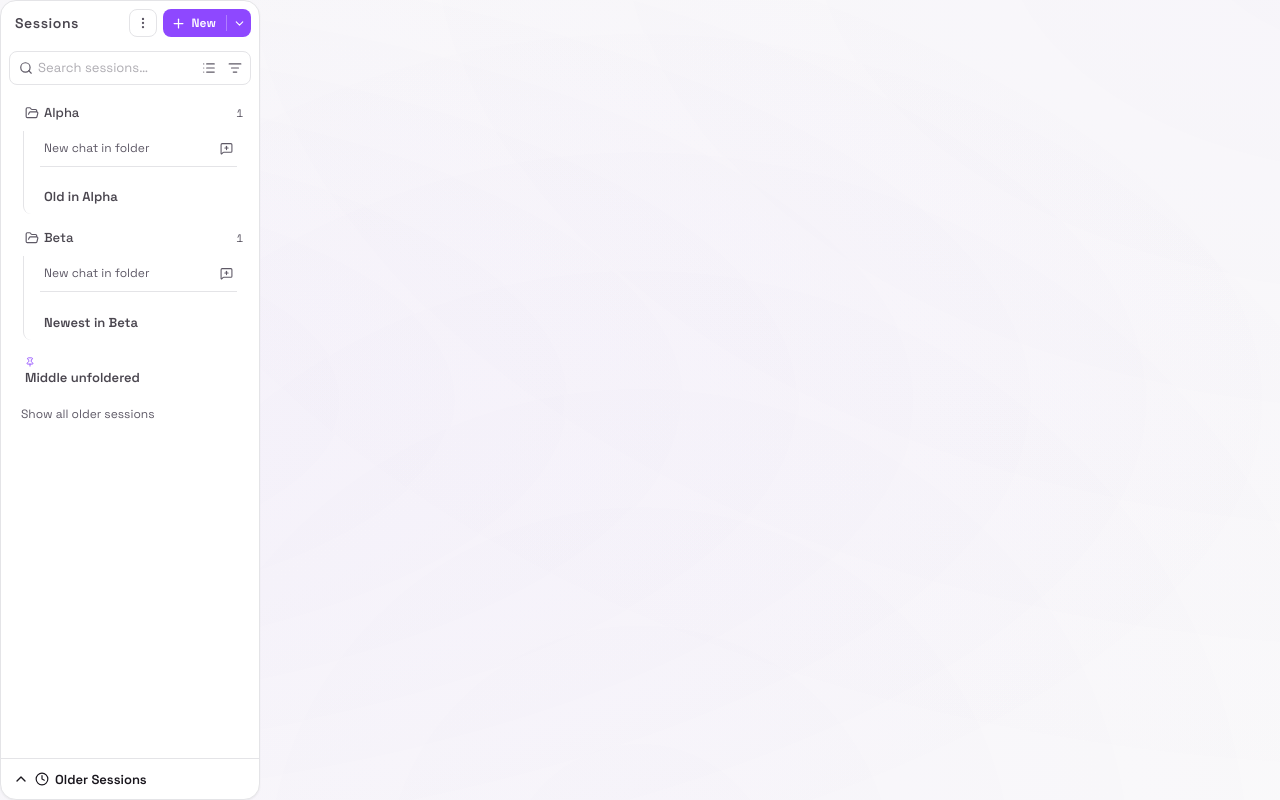
Test: chat sidebar — flat view (explode chats out of folders) › toggling back off restores the folder tree
Click the button with test id "flat-view-toggle".
click(209, 68)  # box x1=197 y1=56 x2=221 y2=80
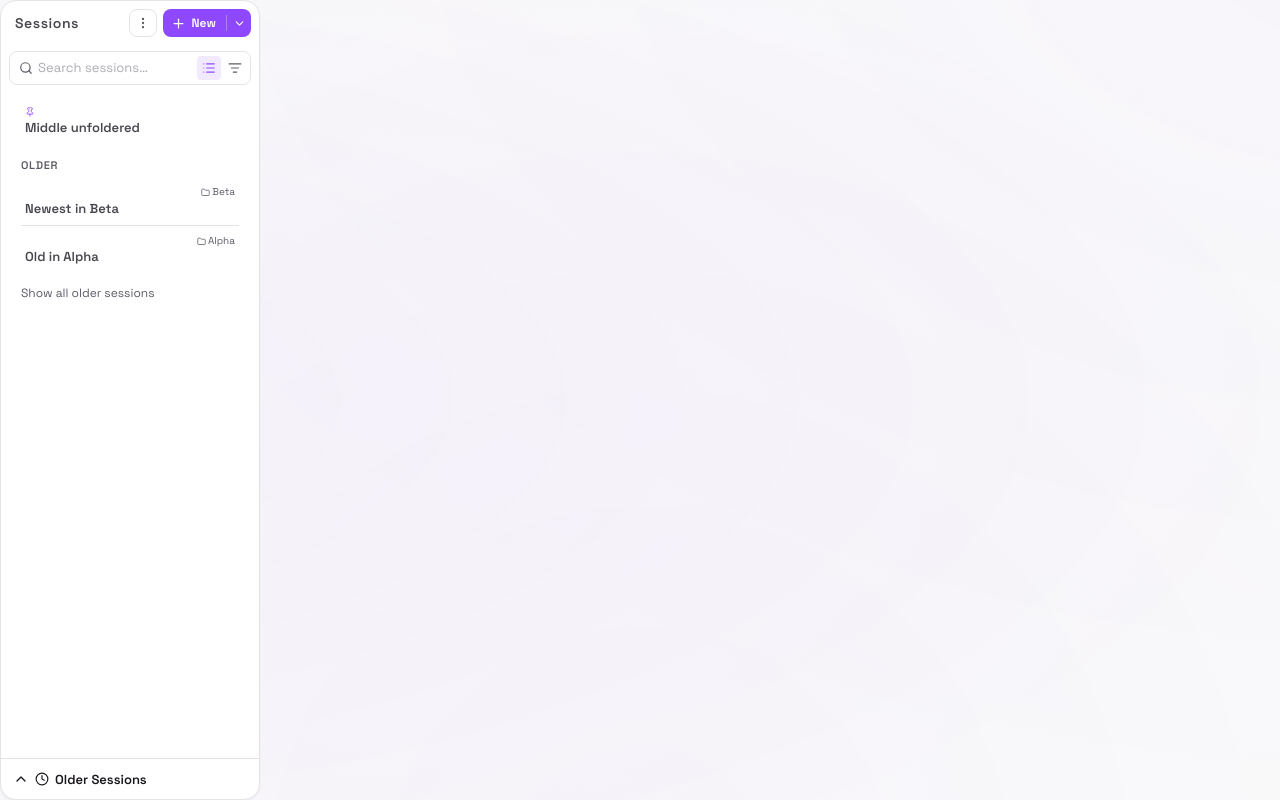
Check: the element with test id "flat-view-lane" is shown, box x1=13 y1=107 x2=247 y2=309
Click the button with test id "flat-view-toggle".
click(209, 68)  # box x1=197 y1=56 x2=221 y2=80
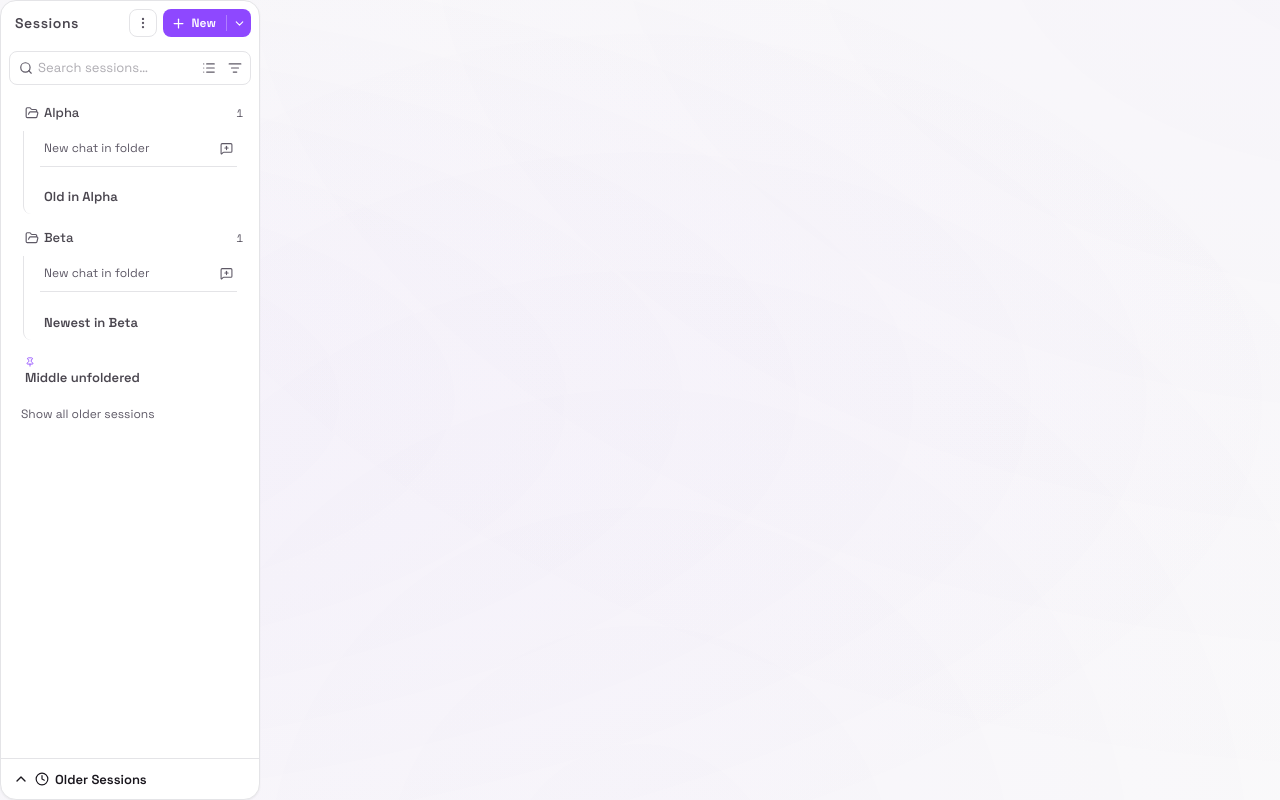
Check: the text "Alpha" is shown, box x1=44 y1=104 x2=79 y2=121
Check: the element with test id "flat-view-lane" is gone
